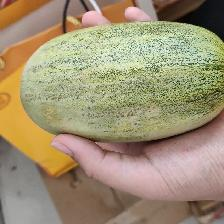gua: (24, 25, 221, 143)
